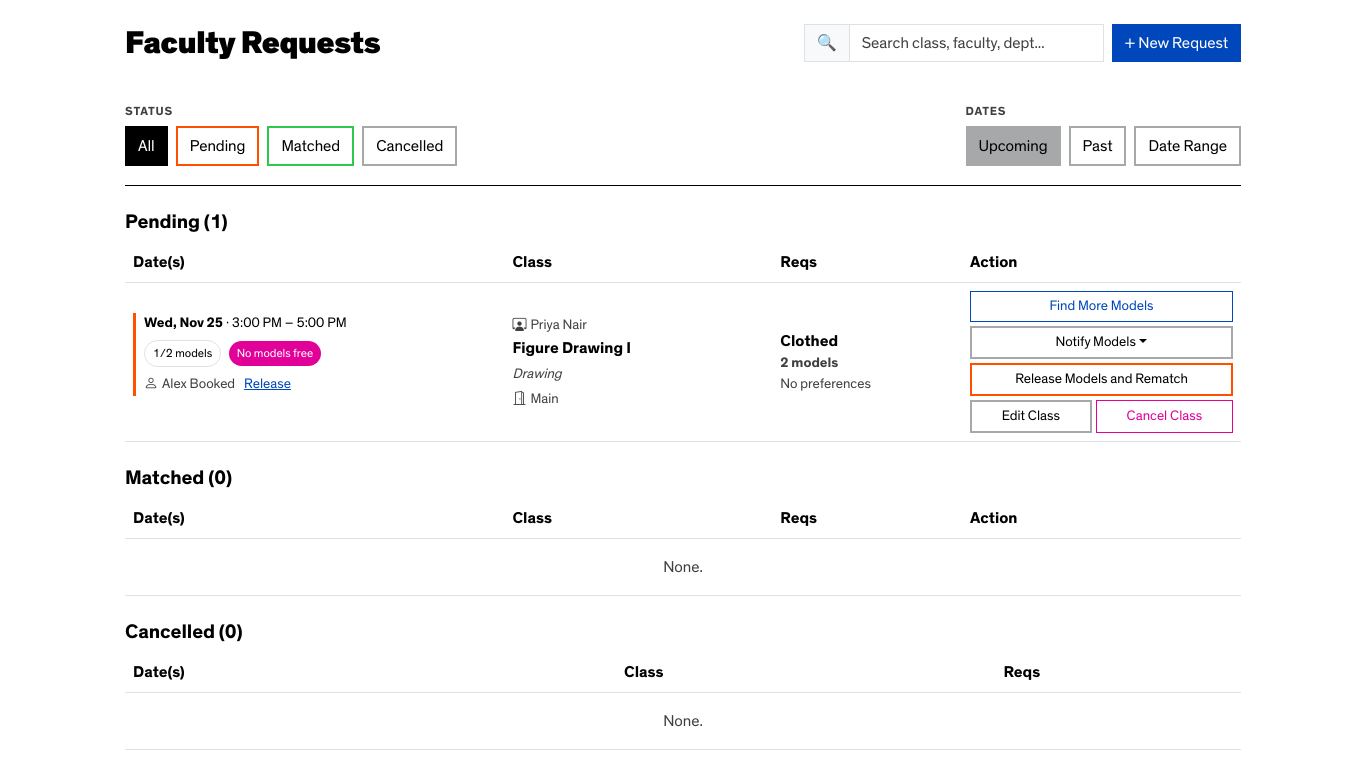
AllRequests (admin requests page) › which dates the page shows › shows past classes a click away
This screenshot has width=1366, height=768.
What coordinates should you click on to do the following:
click the button "Past"
I would click on:
 (1098, 146)
Its box is x1=1068 y1=126 x2=1126 y2=166.
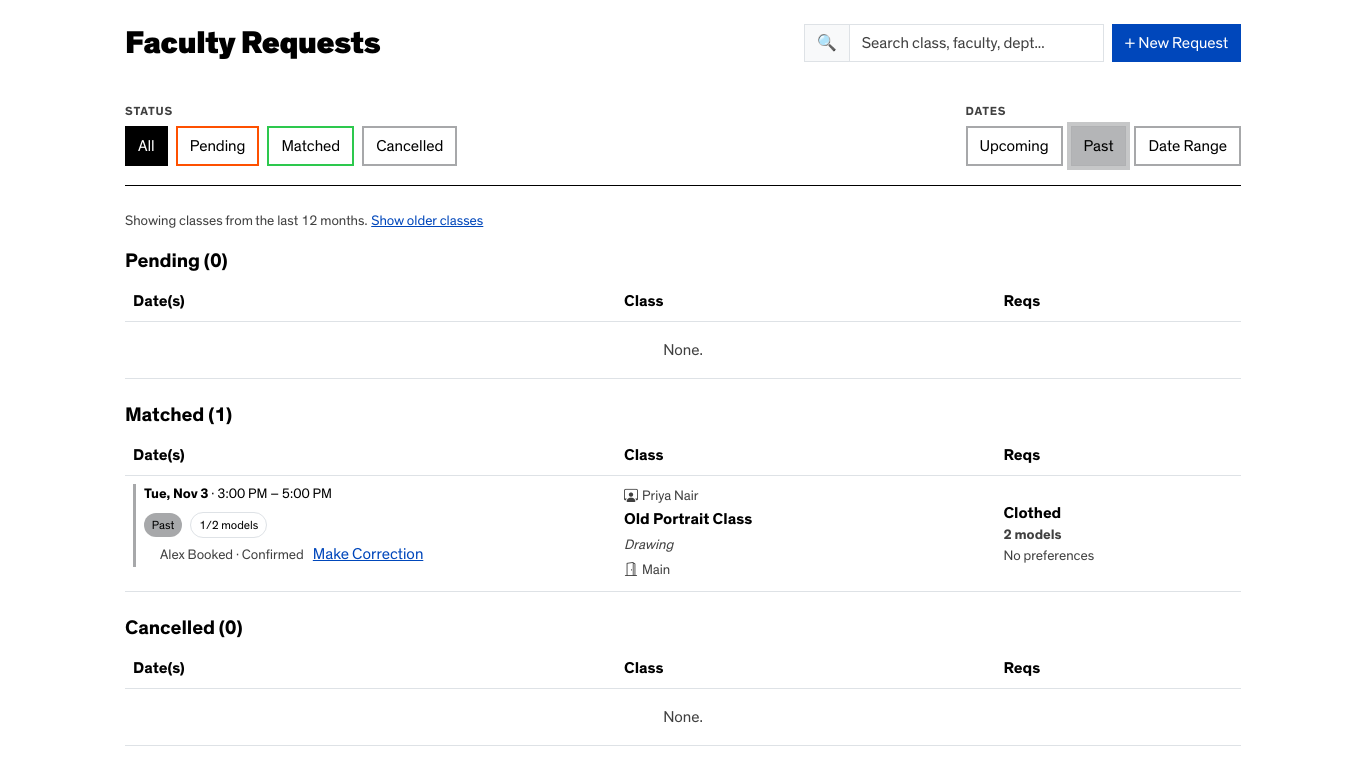
expect the text "Old Portrait Class" is shown: met, box x1=624 y1=511 x2=752 y2=527
expect the text "Figure Drawing I" is not shown: met
